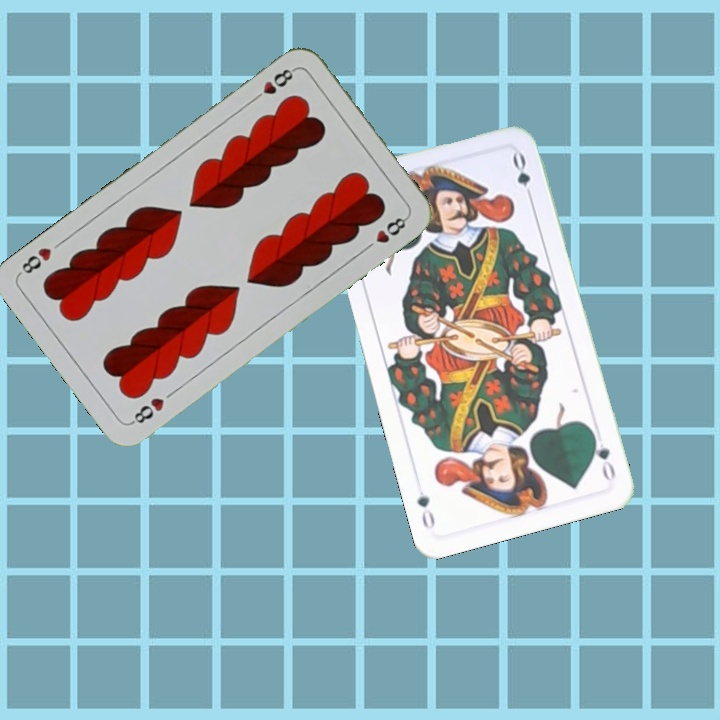GO: (588, 428, 618, 485)
H8: (248, 64, 299, 105), (127, 393, 167, 427)
